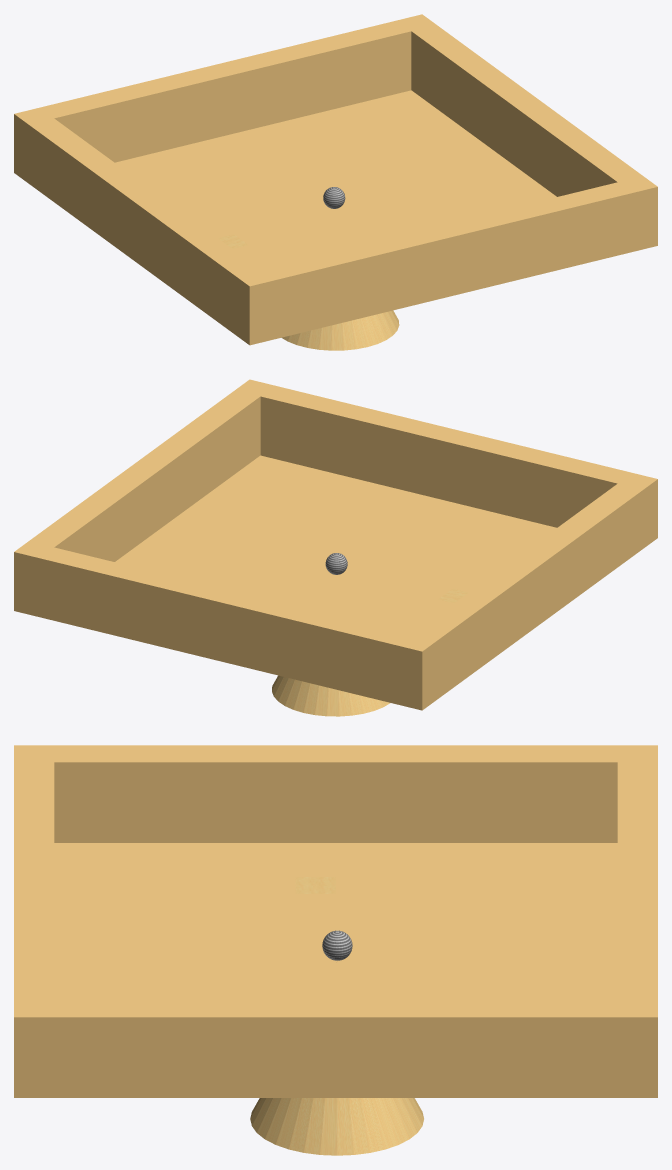
The model's file is MazeFU.dae.
3 views of the same model, one above another, from view 1: azimuth 30°, elevation 25°; view 2: azimuth 150°, elevation 25°; view 3: azimuth 270°, elevation 25° (orthographic). The views are drawn at different scales.
Parts seen in each view (by area): view 1: Plane, Cone; view 2: Plane, Cone; view 3: Plane, Cone, Sphere.
Part boxes in pixels (x1,y1,x2,y2): Plane: (14,14,657,345); Cone: (281,310,399,350); Plane: (14,379,657,710); Cone: (272,675,390,716); Plane: (14,745,657,1097); Cone: (250,961,423,1155); Sphere: (322,930,352,960).
Bounding box in the file's own units: 2 × 2 × 0.8139.
3 materials, 3 textured.
